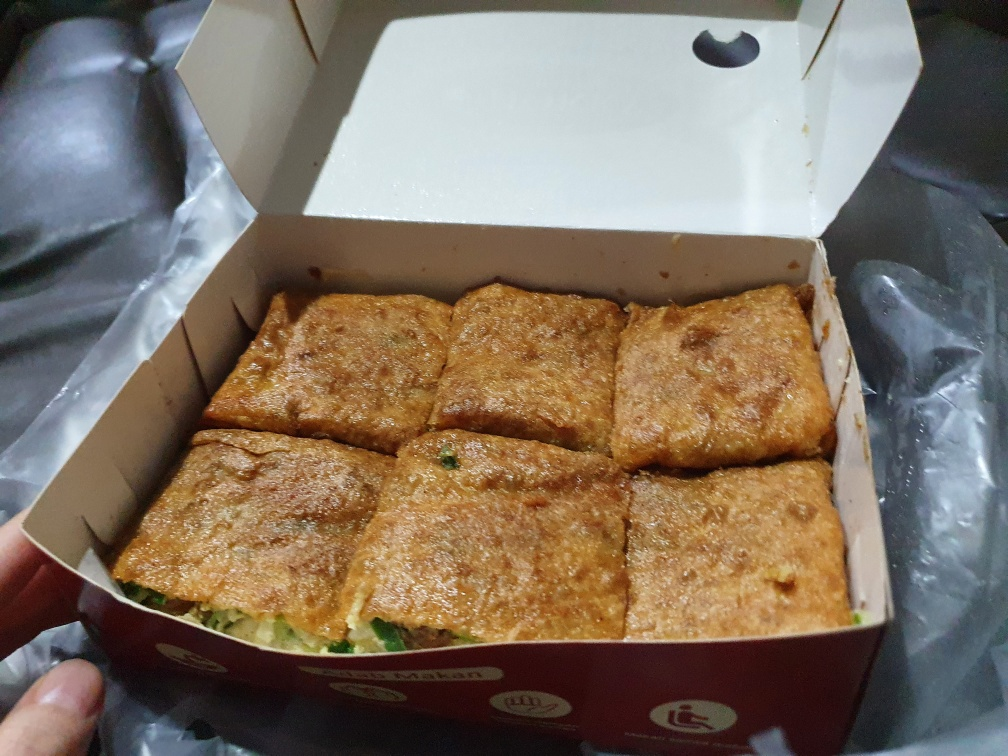martabak telor: (381, 429, 626, 661), (130, 428, 369, 646), (609, 448, 846, 649), (222, 262, 440, 440), (602, 286, 821, 460), (444, 273, 625, 461)
